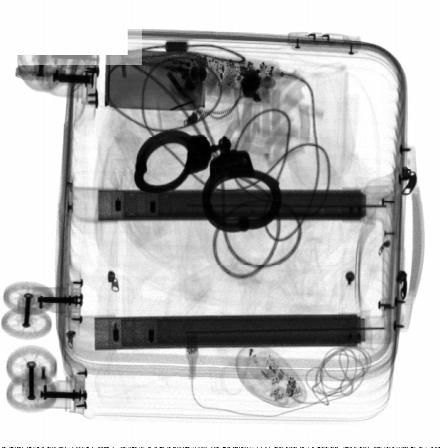HandCuffs: (133, 127, 283, 235)
